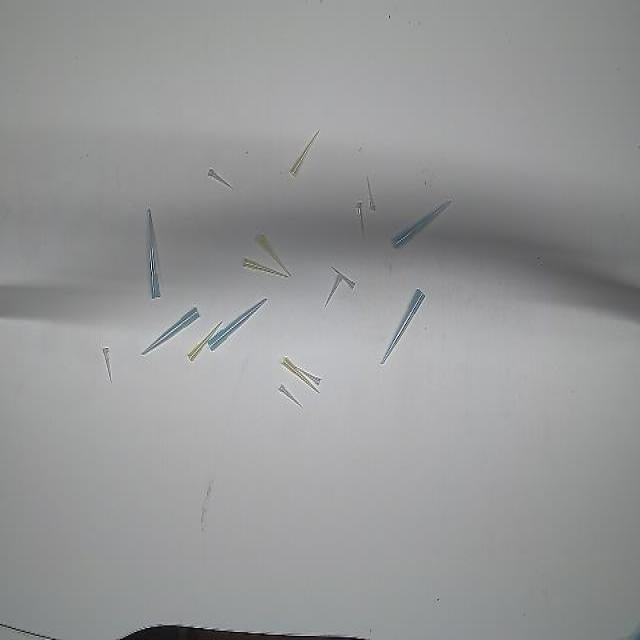Micropipette Tip 10 uL: (206, 162, 236, 194), (275, 384, 307, 412), (291, 358, 324, 385), (330, 262, 359, 292), (324, 272, 344, 309), (364, 174, 380, 213), (353, 198, 368, 238), (101, 343, 115, 384)
Micropipette Tip 1000 uL: (380, 283, 428, 367), (207, 297, 269, 354), (392, 196, 454, 250), (141, 305, 202, 358), (143, 206, 163, 300)
Micropipette Tip 200 uL: (251, 228, 295, 278), (279, 352, 322, 398), (287, 127, 322, 182), (187, 318, 224, 363), (241, 253, 292, 280)
